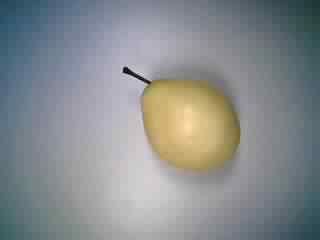pear: (116, 54, 251, 183)
